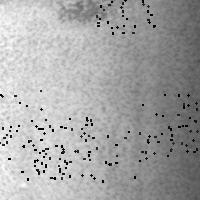pitted_surface: (1, 1, 199, 199), (36, 117, 93, 177), (139, 94, 196, 152), (8, 125, 66, 178), (88, 131, 147, 180), (0, 90, 40, 145), (96, 0, 153, 32), (167, 102, 200, 155), (55, 1, 124, 25)
